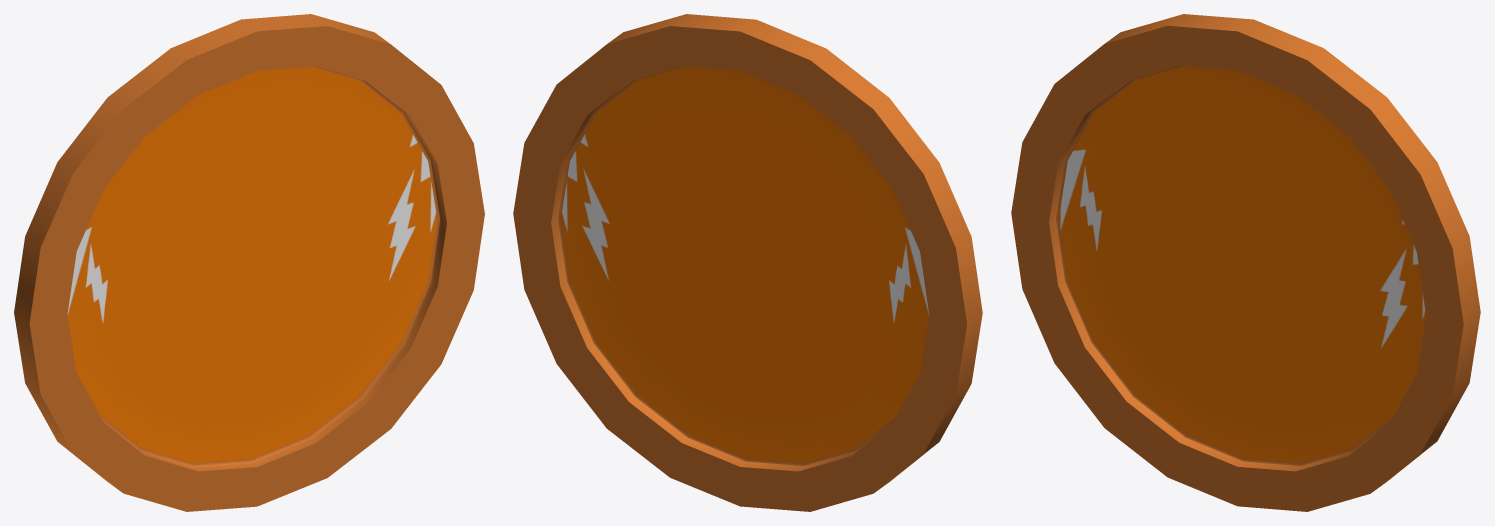
Rendered from double_damage_powerup.fbx.
3 views of the same model, side by side, from view 1: azimuth 30°, elevation 25°; view 2: azimuth 150°, elevation 25°; view 3: azimuth 330°, elevation 25° (orthographic).
Visible parts, largest first — view 1: pCylinder1; view 2: pCylinder1; view 3: pCylinder1.
Part boxes in pixels (x1,y1,x2,y2): pCylinder1: (14,14,484,511); pCylinder1: (513,14,982,511); pCylinder1: (1011,14,1480,511).
Size of the model in its own units: 36.24 by 36.24 by 2.34.
